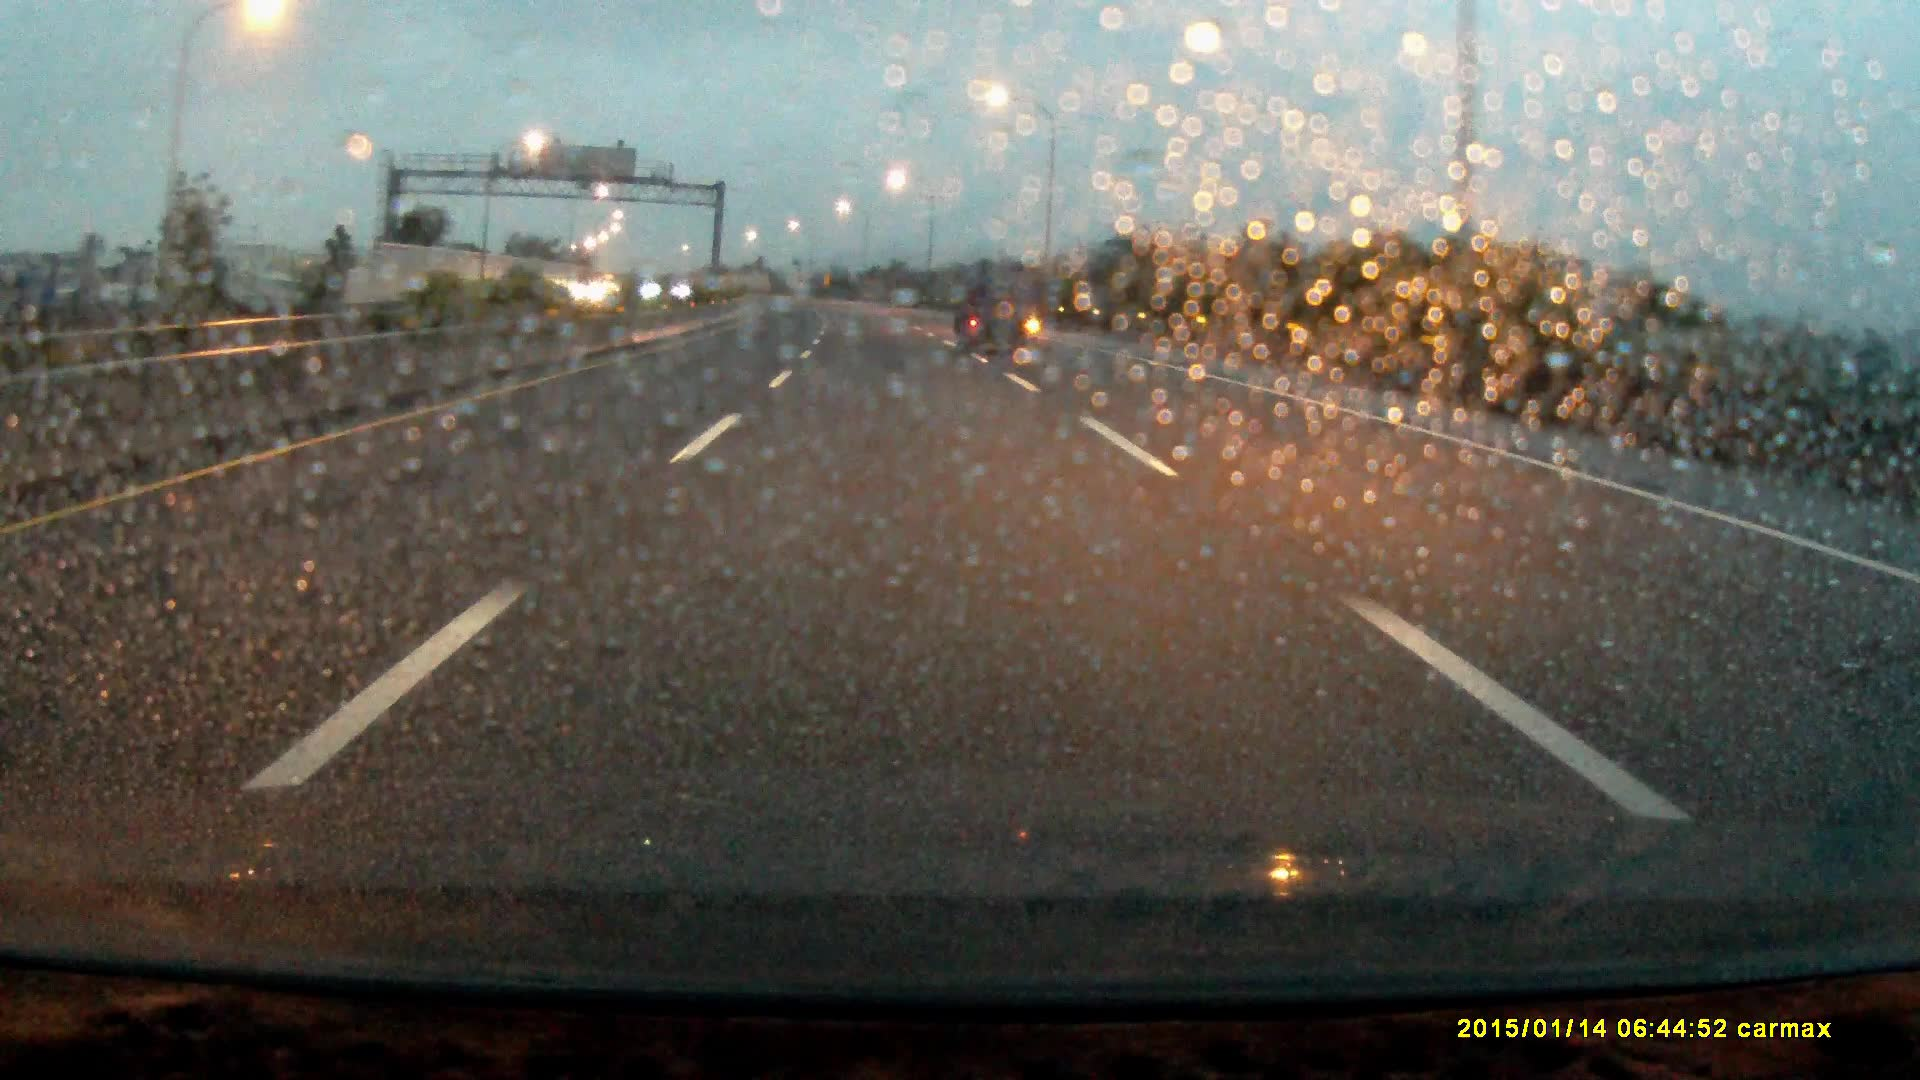vehicle: (955, 272, 1040, 360)
